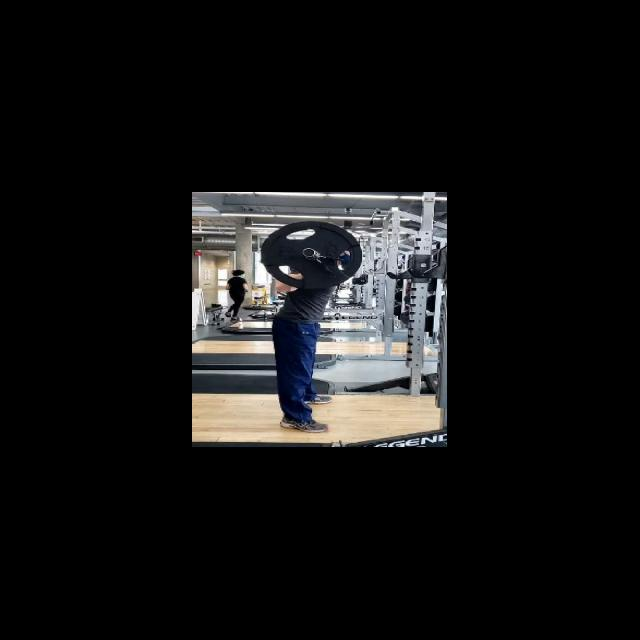barbell: (257, 219, 364, 292)
